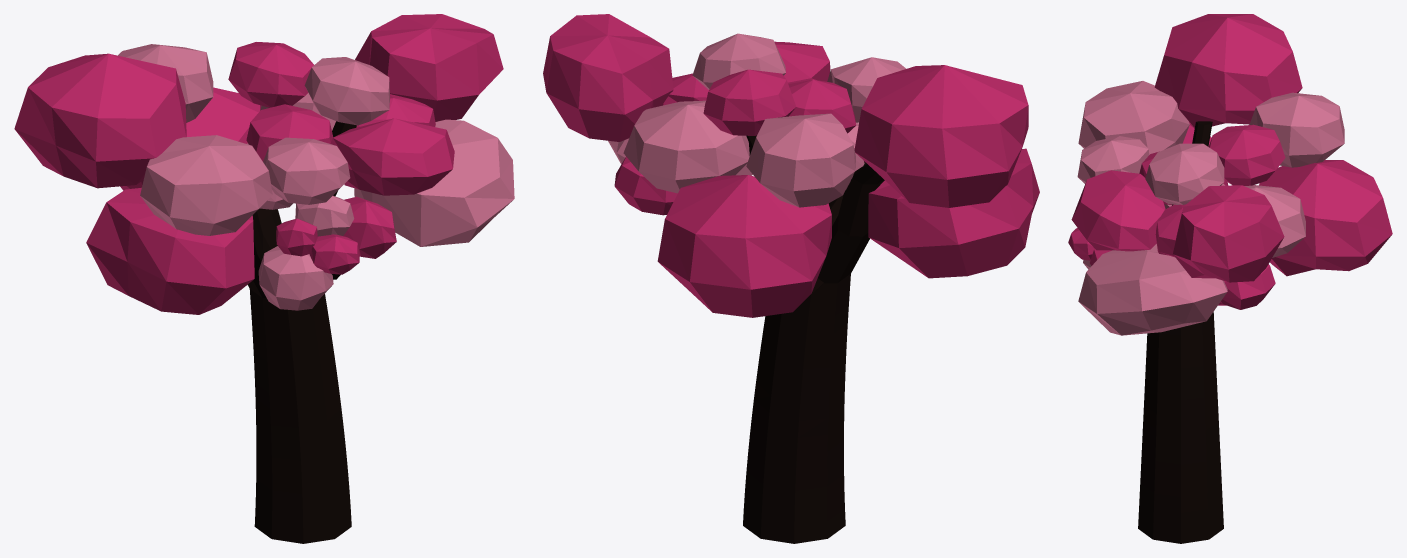
Rendered from Arbol.fbx.
The picture shows the model from 3 angles, left to right: view 1: azimuth 30°, elevation 25°; view 2: azimuth 150°, elevation 25°; view 3: azimuth 270°, elevation 25°; orthographic projection. The views are drawn at different scales.
Visible parts, largest first — view 1: baseTronco, Sphere012, Sphere016, Sphere019, Sphere013, Sphere011, Sphere010, Sphere005, Sphere007, Sphere009, Sphere015, Sphere018 (+7 smaller); view 2: baseTronco, Sphere012, Sphere017, Sphere019, Sphere016, Sphere018, Sphere008, Sphere009, Sphere005, Sphere004, Sphere007, Sphere014 (+2 smaller); view 3: baseTronco, Sphere012, Sphere017, Sphere011, Sphere019, Sphere010, Sphere013, Sphere018, Sphere005, Sphere009, Sphere007, Sphere008 (+3 smaller).
Part boxes in pixels (left/top/right/bottom): baseTronco: left=247, top=121, right=356, bottom=543; Sphere012: left=14, top=53, right=186, bottom=188; Sphere016: left=86, top=187, right=254, bottom=314; Sphere019: left=355, top=14, right=503, bottom=121; Sphere013: left=140, top=135, right=272, bottom=235; Sphere011: left=354, top=119, right=514, bottom=246; Sphere010: left=330, top=118, right=454, bottom=195; Sphere005: left=304, top=57, right=389, bottom=125; Sphere007: left=263, top=137, right=350, bottom=204; Sphere009: left=228, top=42, right=313, bottom=107; Sphere015: left=258, top=246, right=333, bottom=310; Sphere018: left=118, top=44, right=213, bottom=122; baseTronco: left=743, top=135, right=884, bottom=543; Sphere012: left=854, top=65, right=1028, bottom=207; Sphere017: left=657, top=175, right=831, bottom=317; Sphere019: left=543, top=14, right=673, bottom=141; Sphere016: left=868, top=148, right=1039, bottom=278; Sphere018: left=746, top=113, right=855, bottom=207; Sphere008: left=623, top=100, right=749, bottom=193; Sphere009: left=703, top=69, right=796, bottom=135; Sphere005: left=692, top=33, right=785, bottom=89; Sphere004: left=788, top=79, right=856, bottom=133; Sphere007: left=827, top=57, right=905, bottom=122; Sphere014: left=614, top=156, right=677, bottom=215; baseTronco: left=1138, top=121, right=1223, bottom=543; Sphere012: left=1154, top=14, right=1302, bottom=128; Sphere017: left=1259, top=160, right=1392, bottom=276; Sphere011: left=1078, top=244, right=1227, bottom=335; Sphere019: left=1173, top=185, right=1284, bottom=282; Sphere010: left=1071, top=170, right=1165, bottom=251; Sphere013: left=1078, top=81, right=1189, bottom=154; Sphere018: left=1249, top=92, right=1344, bottom=167; Sphere005: left=1145, top=143, right=1224, bottom=204; Sphere009: left=1209, top=124, right=1285, bottom=185; Sphere007: left=1077, top=136, right=1149, bottom=183; Sphere008: left=1244, top=185, right=1305, bottom=257.
Size of the model in its own units: 171 by 176 by 119.
